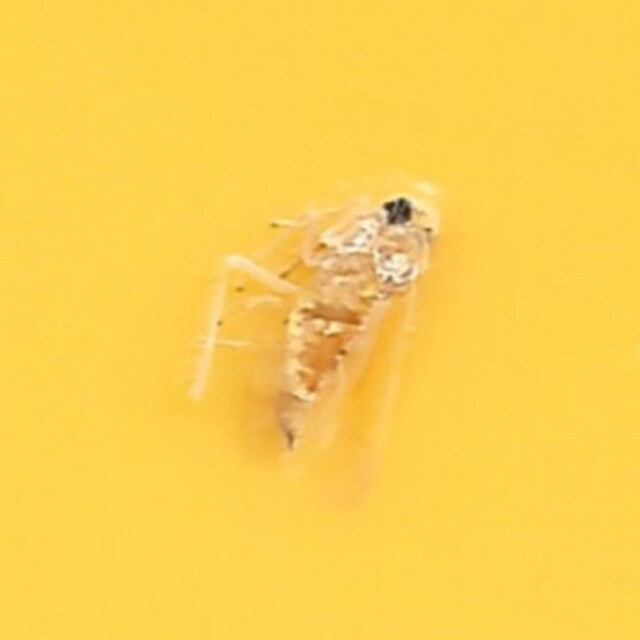Hemiptera: (193, 173, 447, 467)
